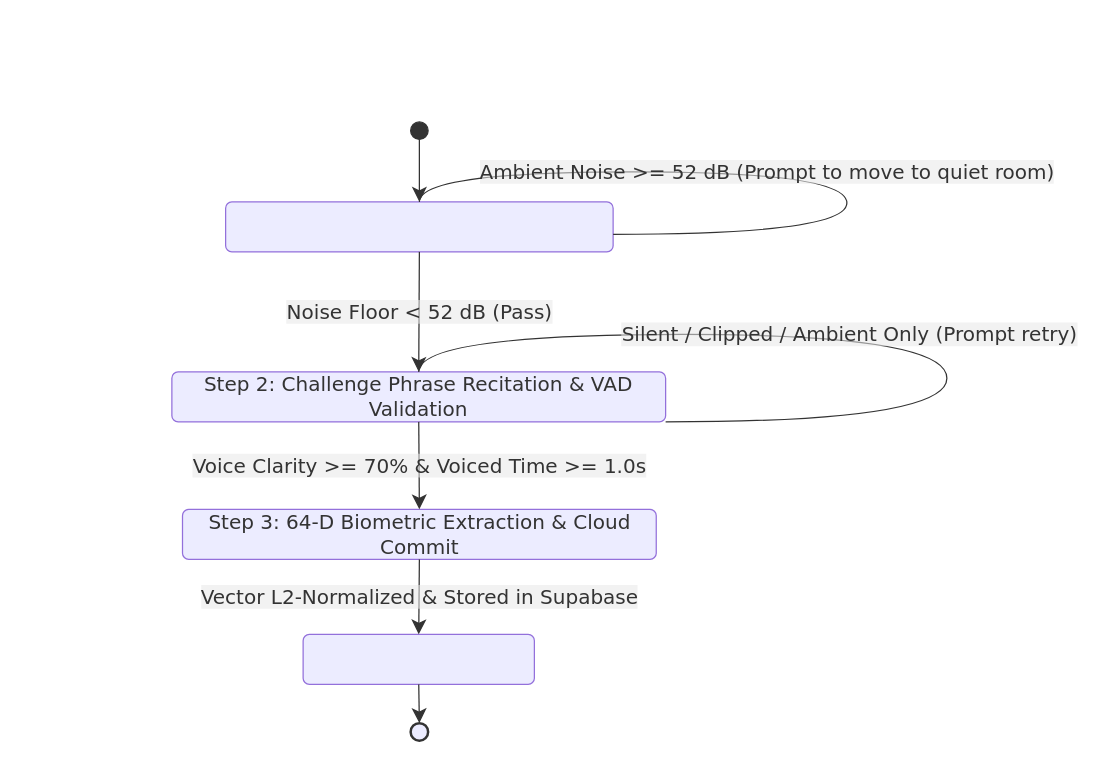
This 1098x763 diagram has some shape labels left out. Each missing label, with the box of its shape:
Profile Active in System: (302, 633, 534, 684)
Step 1: Acoustic Environment Calibration: (224, 201, 613, 252)
